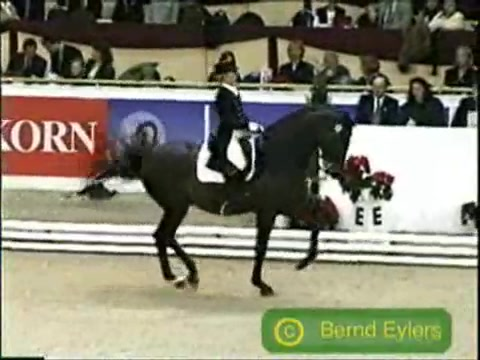horse: (92, 107, 358, 301)
